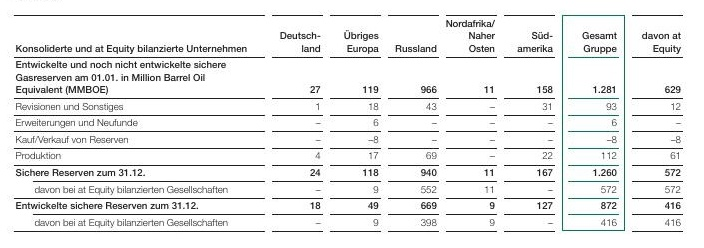table: (0, 0, 704, 248)
